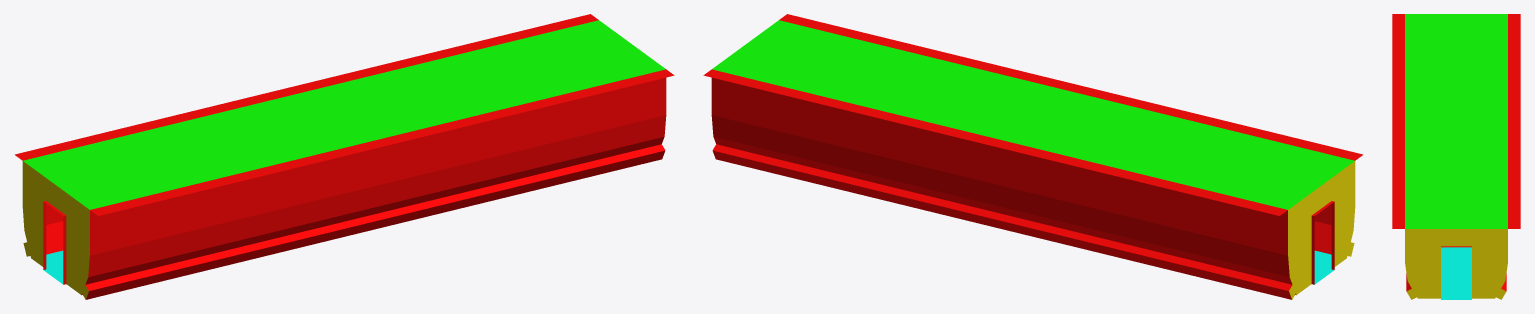
The model's file is Corridor.FBX.
The picture shows the model from 3 angles, left to right: view 1: azimuth 30°, elevation 25°; view 2: azimuth 150°, elevation 25°; view 3: azimuth 270°, elevation 25°; orthographic projection. The views are drawn at different scales.
Visible parts, largest first — view 1: Box002; view 2: Box002; view 3: Box002.
Boxes of the visible parts, <box> form: Box002: <box>15,14,674,299</box>; Box002: <box>703,14,1362,299</box>; Box002: <box>1392,14,1520,299</box>.
Size of the model in its own units: 2000 by 305 by 500.
